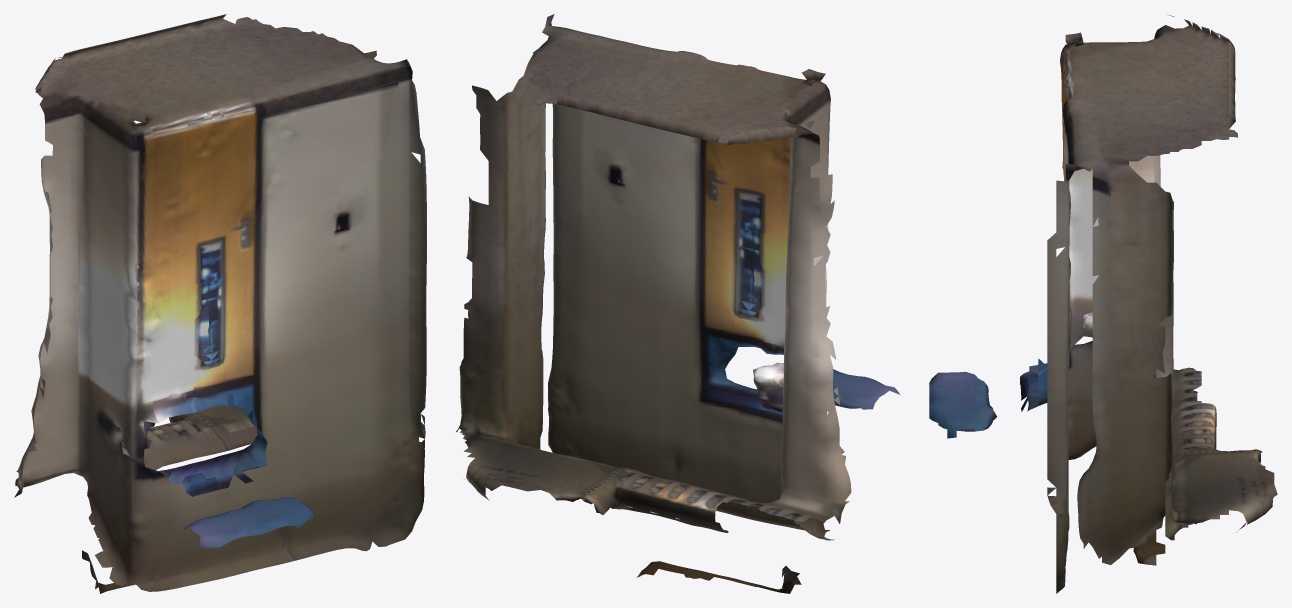
The model's file is Hall4L.obj.
3 views of the same model, side by side, from view 1: azimuth 30°, elevation 25°; view 2: azimuth 150°, elevation 25°; view 3: azimuth 270°, elevation 25° (orthographic). The views are drawn at different scales.
Size of the model in its own units: 3.2 by 4.04 by 2.72.
Materials: 1 (1 with a texture image).
